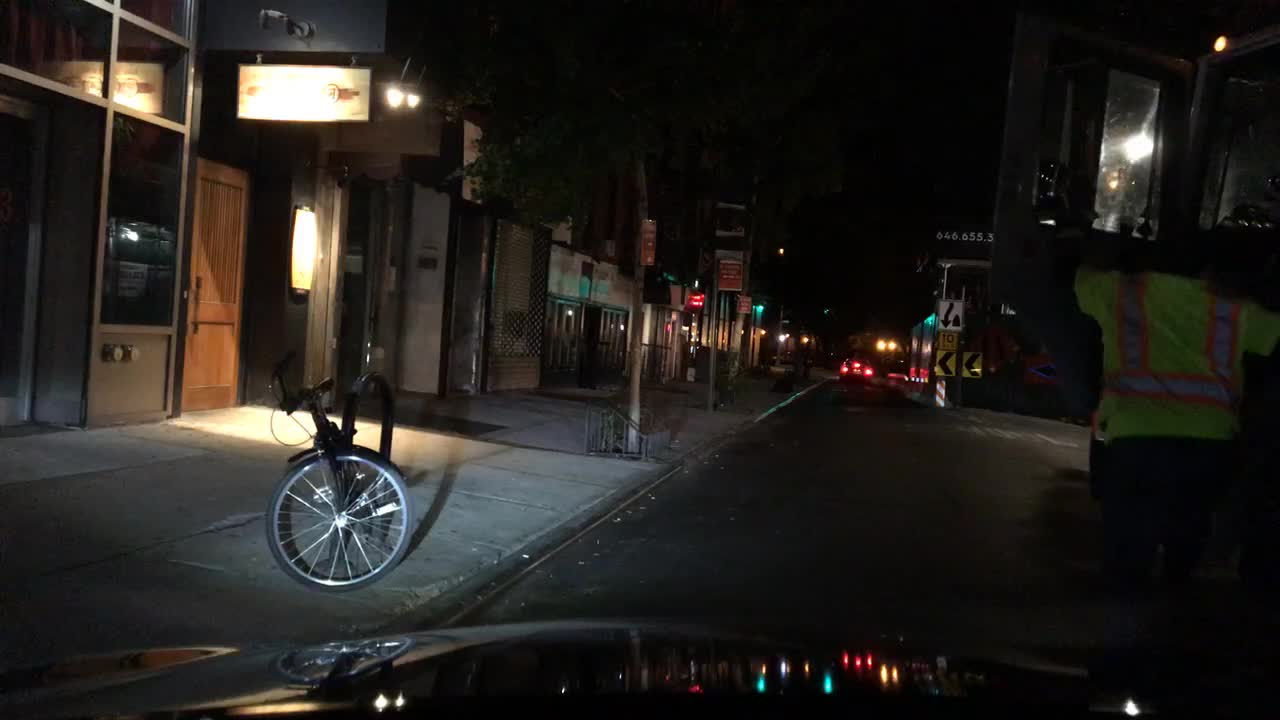bike: (260, 344, 418, 591)
car: (837, 355, 875, 382)
person: (1064, 234, 1276, 652)
traffic light: (687, 291, 705, 309), (754, 300, 766, 314)
traffic sign: (936, 298, 964, 329), (639, 219, 656, 263), (719, 258, 742, 290), (961, 349, 982, 378), (935, 349, 956, 375), (933, 379, 945, 407), (938, 332, 956, 349), (739, 295, 751, 312)
